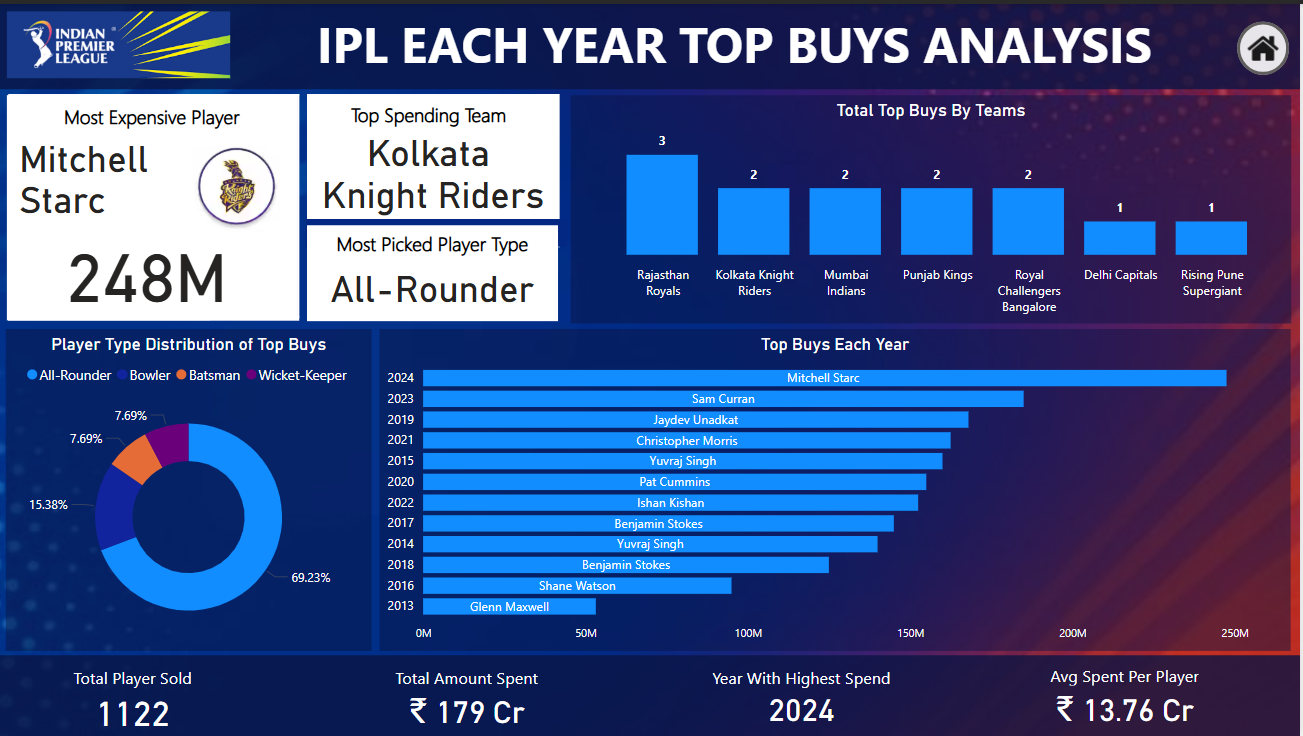

What the dashboard file says about the page in this screenshot:
{"tool":"powerbi","page":{"name":"Top_Buys_Analysis","canvas":[1280,720],"ordinal":2},"visuals":[{"type":"shape","box":[0,0,1279.7,83.7],"z":0},{"type":"group","id":"g1","title":"Group 1","box":[4.3,85.1,290,246.6],"z":0,"group":"g4"},{"type":"cardVisual","fields":{"Data":["Min(sold_players.player)"]},"box":[4.3,85.1,209.2,246.6],"z":0,"group":"g1"},{"type":"image","box":[4.3,2.9,229.4,75],"z":1000},{"type":"shape","box":[10.1,78.7,285.7,22],"z":1000,"group":"g4"},{"type":"shape","box":[206.3,89.9,88,219.2],"z":1000,"group":"g1"},{"type":"textbox","box":[308.8,1.4,914.7,80.8],"z":2000},{"type":"textbox","box":[54.8,93.8,193.3,44],"z":2000,"group":"g1"},{"type":"shape","box":[10.1,295.7,285.7,26.4],"z":2000,"group":"g4"},{"type":"shape","box":[281.3,88.2,27.4,220.2],"z":3000,"group":"g3"},{"type":"tableEx","fields":{"Values":["sold_players.Most Expensive Player Logo URL"]},"box":[181.5,111.9,112.5,139.8],"z":3000,"group":"g1"},{"type":"shape","box":[0,639.1,1279.7,81],"z":3000},{"type":"card","fields":{"Values":["Max(sold_players.price_paid)"]},"box":[57.7,220.7,176,88],"z":4000,"group":"g1"},{"type":"cardVisual","fields":{"Data":["sold_players (3).Avg Per Player"]},"box":[977.9,630.7,258.9,83.4],"z":4000},{"type":"shape","box":[181.8,126.1,99.6,14.7],"z":5000,"group":"g1"},{"type":"cardVisual","fields":{"Data":["sold_players (3).Total_Spent(₹ Cr)1"]},"box":[321.7,633.4,279.9,83.7],"z":5000},{"type":"cardVisual","fields":{"Data":["sold_players (3).YearWithHighestSpend"]},"box":[673.8,633.4,232.3,83.7],"z":6000},{"type":"cardVisual","fields":{"Data":["CountNonNull(sold_players.player)"]},"box":[17.3,633.4,232.3,85],"z":7000},{"type":"donutChart","title":"Player Type Distribution of Top Buys","fields":{"Y":["CountNonNull(sold_players (3).type)"],"Category":["player_type.type"]},"box":[8.7,318.9,359.2,316],"z":8000},{"type":"columnChart","title":"Total Top Buys By Teams","fields":{"Category":["teams.team"],"Y":["CountNonNull(sold_players (3).team)"]},"box":[562.7,89.5,707,223.6],"z":9000},{"type":"group","id":"g2","title":"Group 6","box":[4.3,78.7,554.6,253],"z":10000},{"type":"barChart","title":"Top Buys Each Year","fields":{"Y":["Sum(sold_players (3).price_paid)"],"Category":["years.year"]},"box":[375.1,318.9,894.5,316],"z":11000},{"type":"actionButton","box":[1217.2,17.2,51.5,52.8],"z":12000},{"type":"group","id":"g3","title":"Group 2","box":[4.3,78.7,304.4,253],"z":13000,"group":"g2"},{"type":"group","id":"g4","title":"Group 3","box":[4.3,78.7,291.4,253],"z":13006,"group":"g3"},{"type":"card","fields":{"Values":["sold_players (3).Top Spending Team"]},"box":[303.1,89,248.2,150],"z":14000,"group":"g5"},{"type":"card","fields":{"Values":["sold_players (3).Most Picked Player Type"]},"box":[303.7,241.9,247,69.3],"z":14000,"group":"g6"},{"type":"group","id":"g5","title":"Group 4","box":[303.1,89,248.2,150],"z":15000,"group":"g2"},{"type":"textbox","box":[318.3,92,209.2,46.2],"z":17000,"group":"g5"},{"type":"shape","box":[302,211.3,256.8,27.4],"z":17001,"group":"g2"},{"type":"textbox","box":[303.7,217.4,247,45.4],"z":17501,"group":"g6"},{"type":"group","id":"g6","title":"Group 5","box":[303.7,217.4,247,93.8],"z":17502,"group":"g2"}]}

Visuals, with their boxes in screenshot pixels (x1, y1, x2, y2), scaled from the page's 1280x720 canvas onto the 1303x736 screenshot:
shape: select_region(0, 0, 1302, 86)
"Group 1" group: select_region(4, 87, 300, 339)
cardVisual - Min(sold_players.player): select_region(4, 87, 217, 339)
image: select_region(4, 3, 238, 80)
shape: select_region(10, 80, 301, 103)
shape: select_region(210, 92, 300, 316)
textbox: select_region(314, 1, 1245, 84)
textbox: select_region(56, 96, 253, 141)
shape: select_region(10, 302, 301, 329)
shape: select_region(286, 90, 314, 315)
tableEx - sold_players.Most Expensive Player Logo URL: select_region(185, 114, 299, 257)
shape: select_region(0, 653, 1302, 735)
card - Max(sold_players.price_paid): select_region(59, 226, 238, 316)
cardVisual - sold_players (3).Avg Per Player: select_region(995, 645, 1259, 730)
shape: select_region(185, 129, 286, 144)
cardVisual - sold_players (3).Total_Spent(₹ Cr)1: select_region(327, 647, 612, 733)
cardVisual - sold_players (3).YearWithHighestSpend: select_region(686, 647, 922, 733)
cardVisual - CountNonNull(sold_players.player): select_region(18, 647, 254, 734)
"Player Type Distribution of Top Buys" donutChart: select_region(9, 326, 375, 649)
"Total Top Buys By Teams" columnChart: select_region(573, 91, 1293, 320)
"Group 6" group: select_region(4, 80, 569, 339)
"Top Buys Each Year" barChart: select_region(382, 326, 1292, 649)
actionButton: select_region(1239, 18, 1291, 72)
"Group 2" group: select_region(4, 80, 314, 339)
"Group 3" group: select_region(4, 80, 301, 339)
card - sold_players (3).Top Spending Team: select_region(309, 91, 561, 244)
card - sold_players (3).Most Picked Player Type: select_region(309, 247, 561, 318)
"Group 4" group: select_region(309, 91, 561, 244)
textbox: select_region(324, 94, 537, 141)
shape: select_region(307, 216, 569, 244)
textbox: select_region(309, 222, 561, 269)
"Group 5" group: select_region(309, 222, 561, 318)
